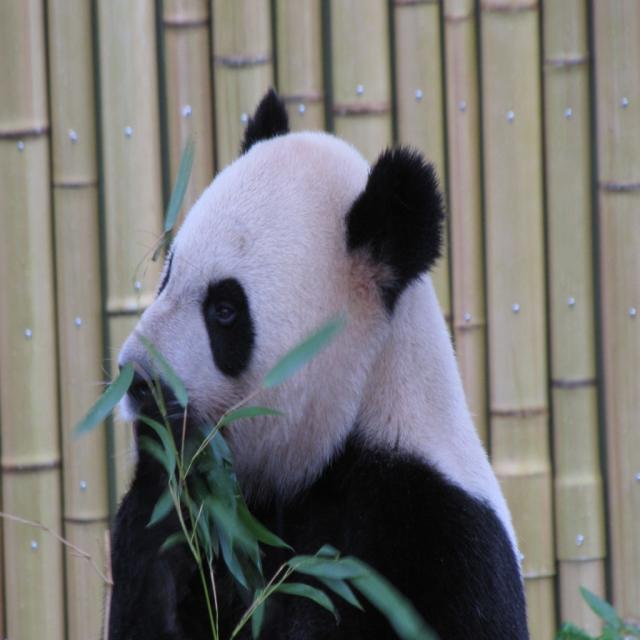panda: (102, 81, 528, 639)
